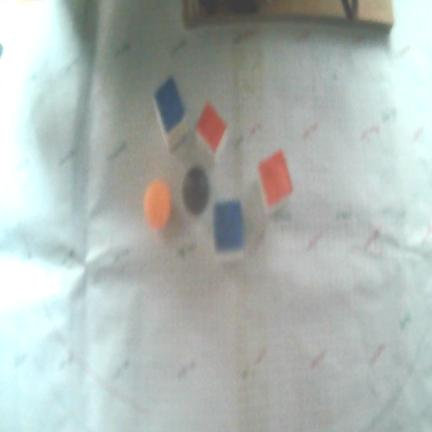circle_blue: (182, 167, 209, 217)
circle_orange: (144, 179, 172, 231)
rectangle_blue: (154, 77, 184, 133)
rectangle_orange: (196, 103, 227, 153)
square_blue: (213, 201, 243, 253)
square_orange: (259, 150, 293, 208)
